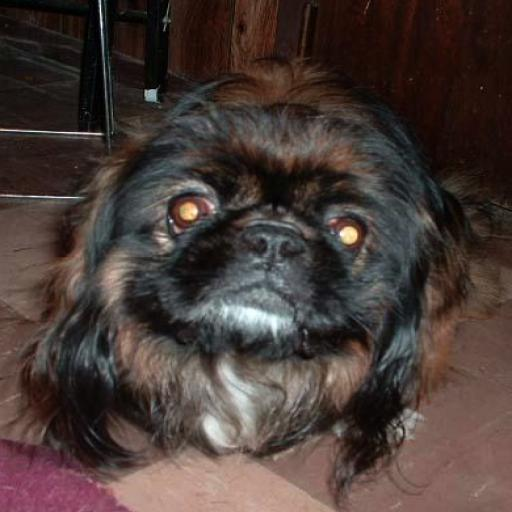dog_face: (103, 109, 427, 360)
